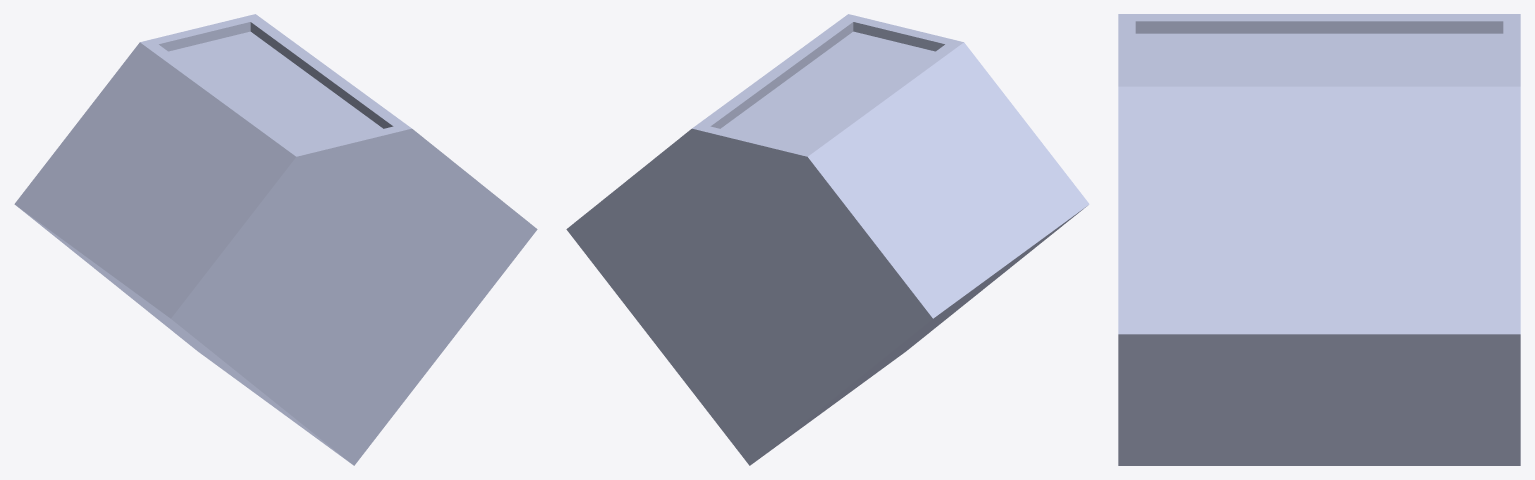
The model's file is Corner wallmount cabinet_y.fbx.
3 views of the same model, side by side, from view 1: azimuth 30°, elevation 25°; view 2: azimuth 150°, elevation 25°; view 3: azimuth 270°, elevation 25° (orthographic). The views are drawn at different scales.
Parts seen in each view (by area): view 1: Body_1; view 2: Body_1; view 3: Body_1.
Part boxes in pixels (<box>): Body_1: <box>14,14,537,465</box>; Body_1: <box>566,14,1089,465</box>; Body_1: <box>1118,14,1520,465</box>.
Size of the model in its own units: 0.7903 by 0.5842 by 0.6656.
